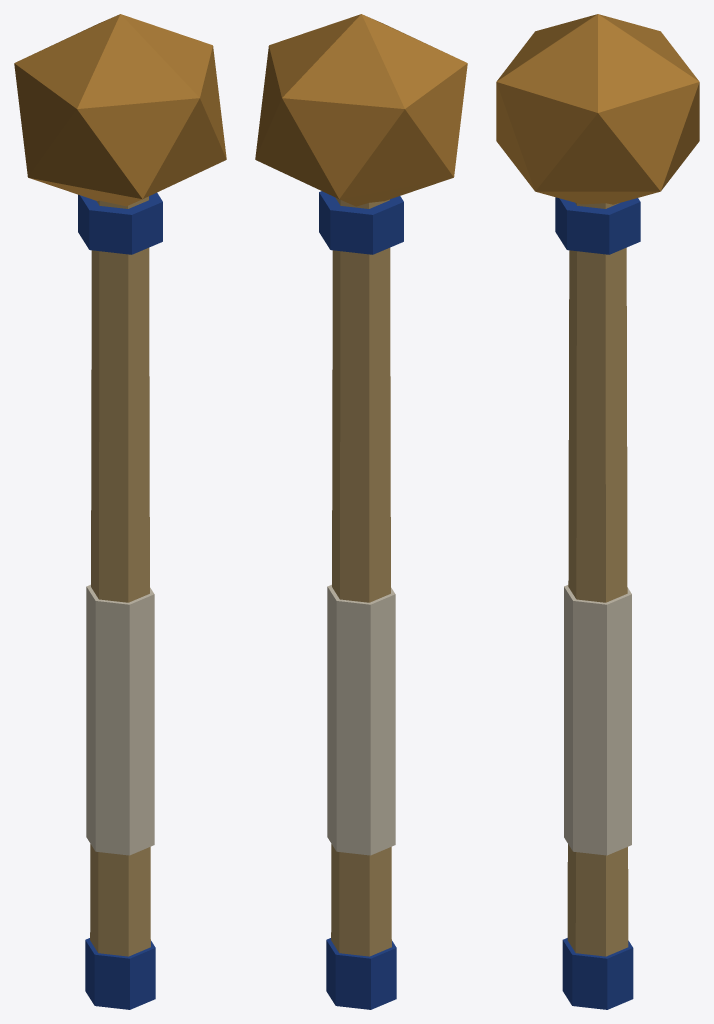
File: weapon_warhammer.glb
3 renders of one model, left to right at view 1: azimuth 30°, elevation 25°; view 2: azimuth 150°, elevation 25°; view 3: azimuth 270°, elevation 25°, orthographic.
Parts seen in each view (by area): view 1: gnoll_weapon_warhammer; view 2: gnoll_weapon_warhammer; view 3: gnoll_weapon_warhammer.
Part boxes in pixels (x1,y1,x2,y2): gnoll_weapon_warhammer: (14, 14, 226, 1009); gnoll_weapon_warhammer: (255, 14, 467, 1009); gnoll_weapon_warhammer: (496, 14, 699, 1009).
Size of the model in its own units: 0.2039 by 1.03 by 0.1939.
